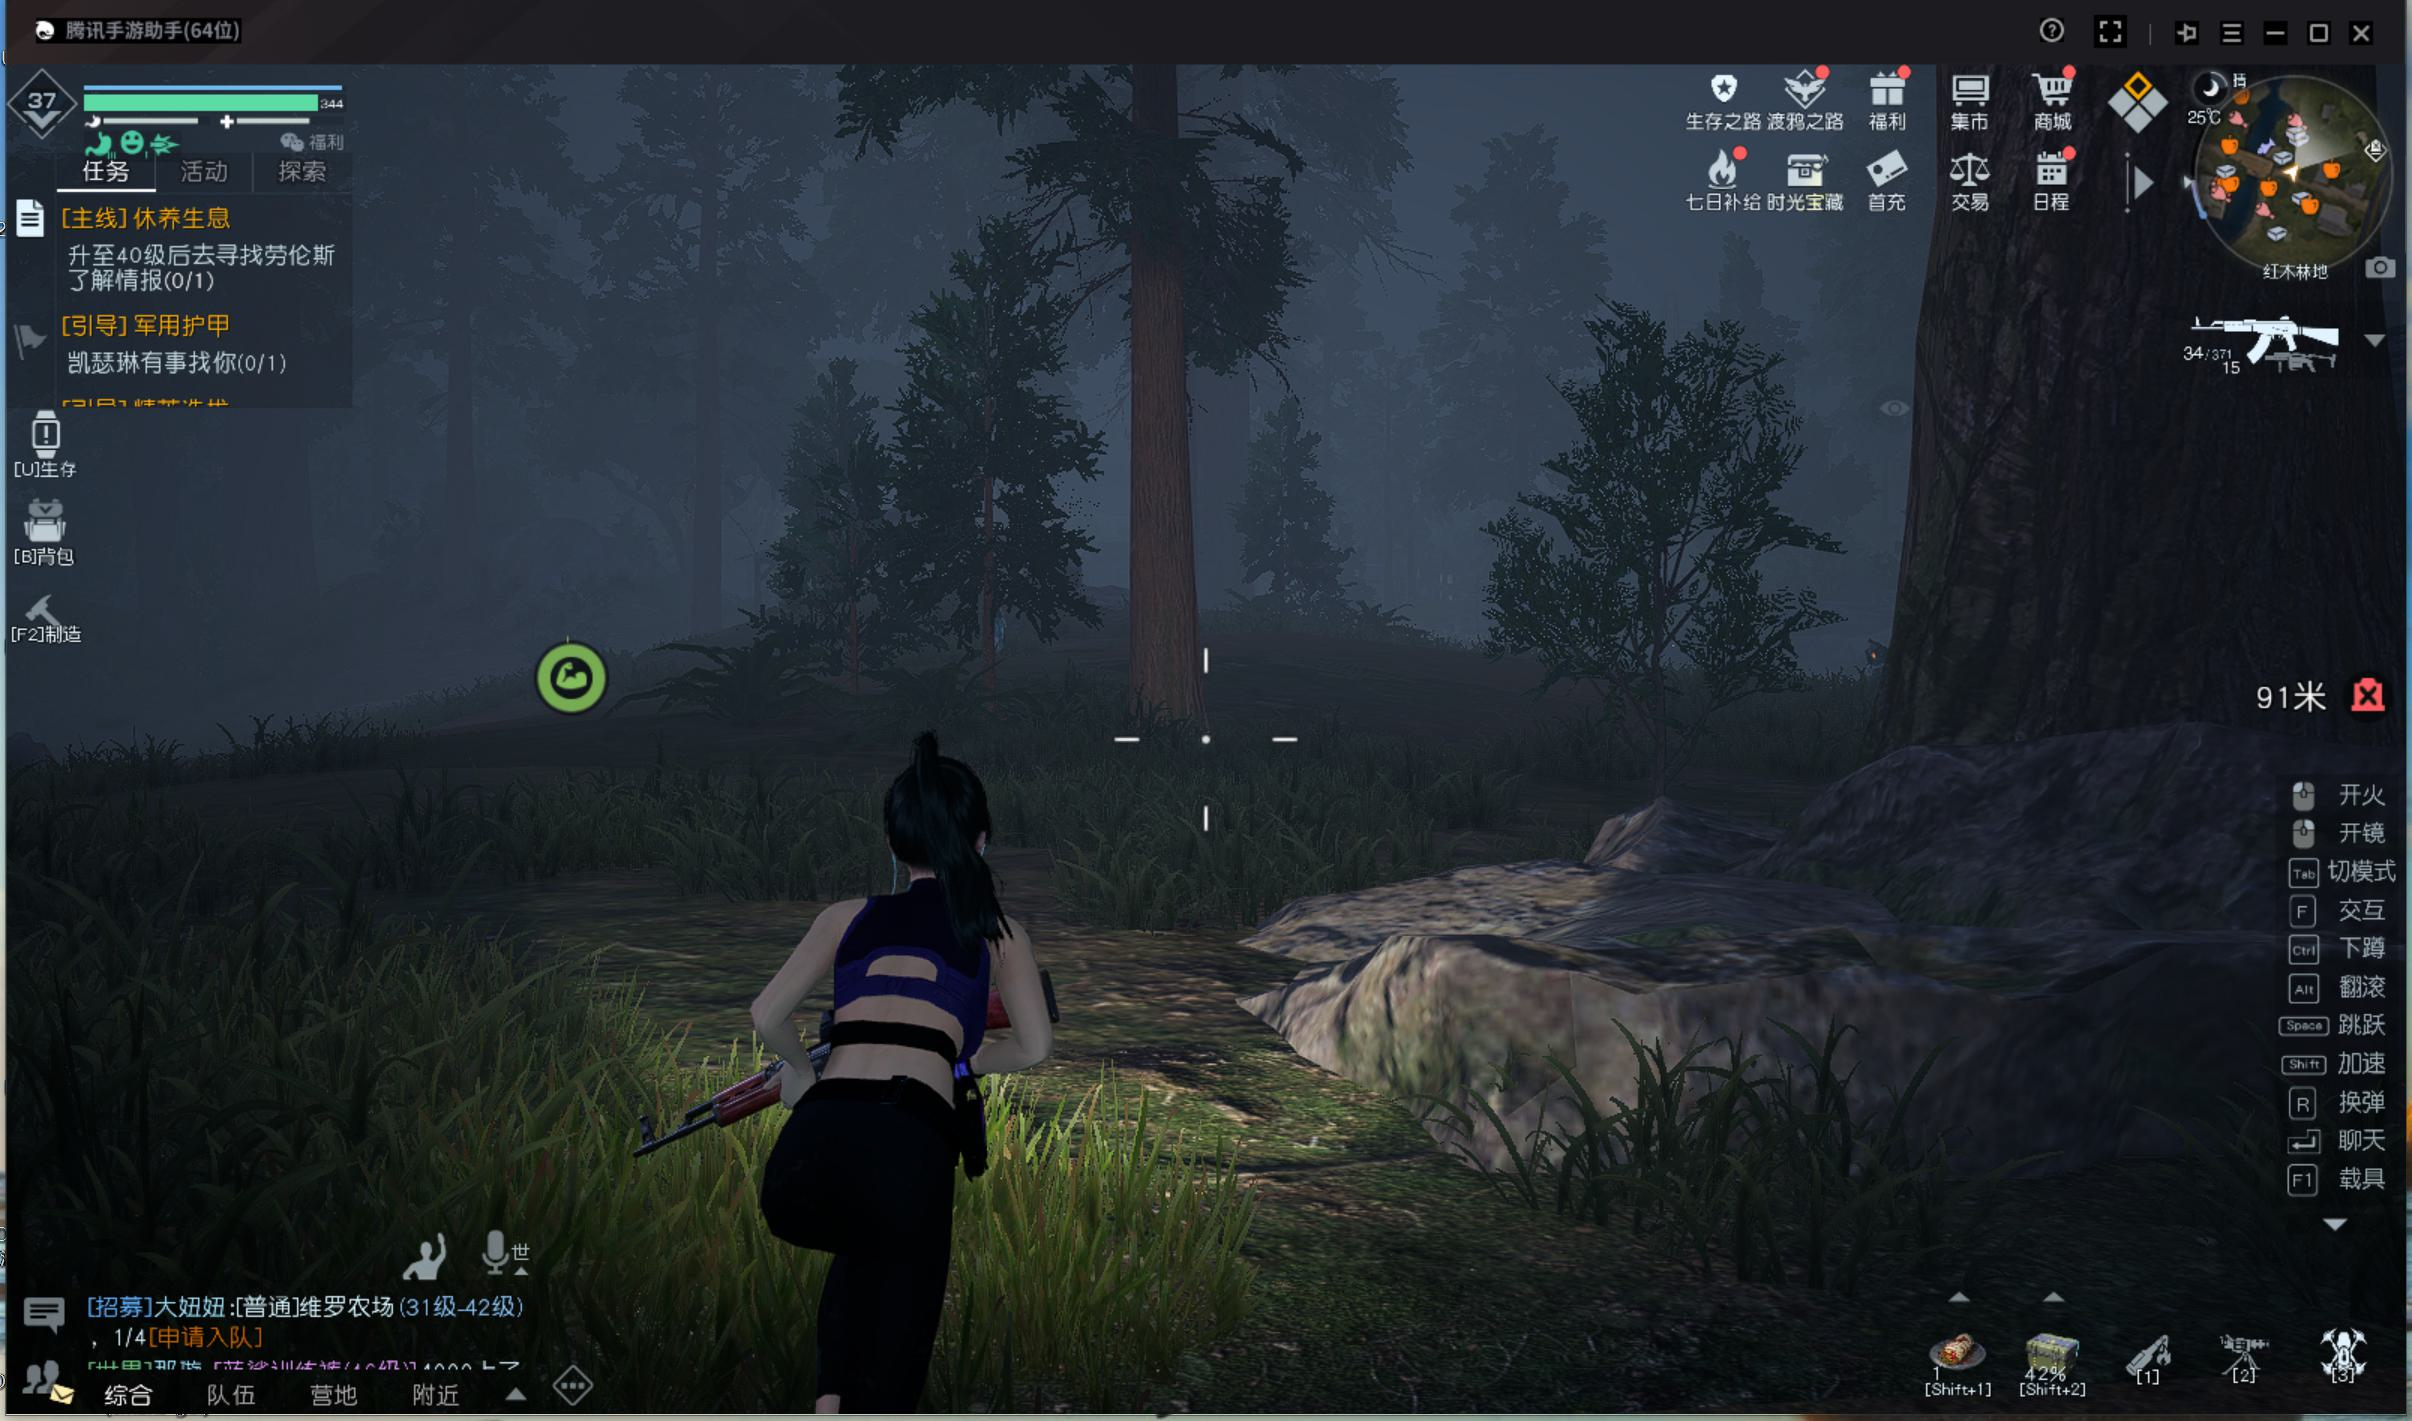tree: (1115, 266, 1208, 746)
